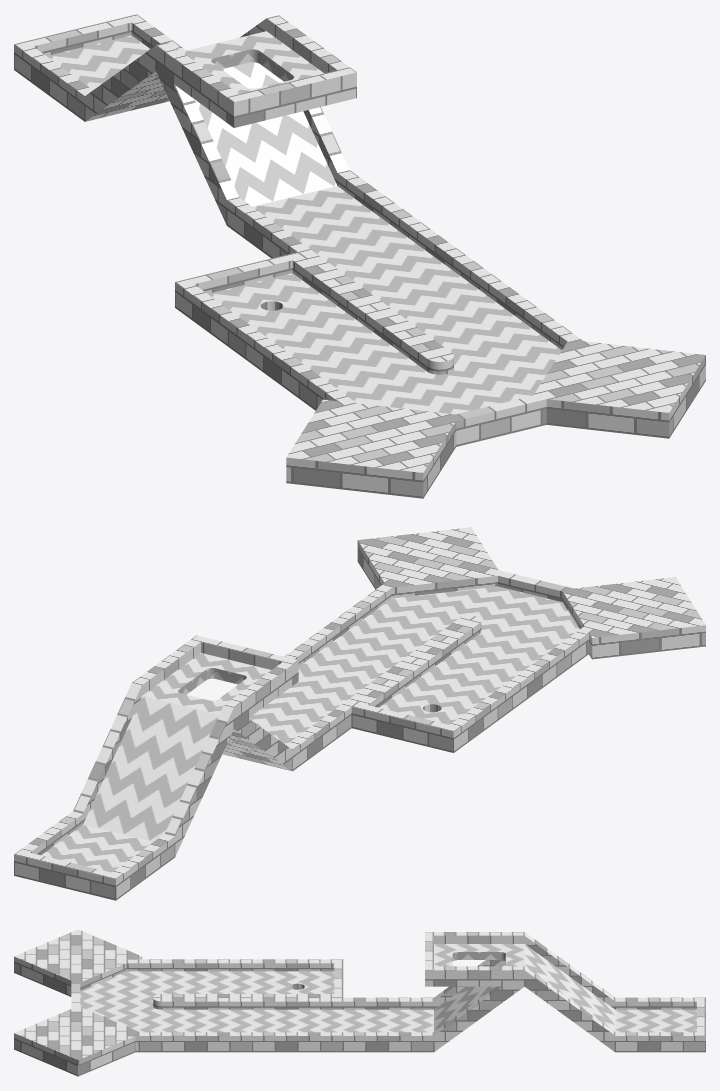
The picture shows the model from 3 angles, top to bottom: view 1: azimuth 30°, elevation 25°; view 2: azimuth 150°, elevation 25°; view 3: azimuth 270°, elevation 25°; orthographic projection. The views are drawn at different scales.
Parts seen in each view (by area): view 1: mergedBlocks; view 2: mergedBlocks; view 3: mergedBlocks.
Boxes of the visible parts, bbox=[...] form: mergedBlocks: bbox=[14, 14, 705, 498]; mergedBlocks: bbox=[14, 527, 705, 900]; mergedBlocks: bbox=[14, 929, 705, 1076].
Bounding box in the file's own units: 34.14 × 10 × 76.31.
Materials: 2 (2 with a texture image).
